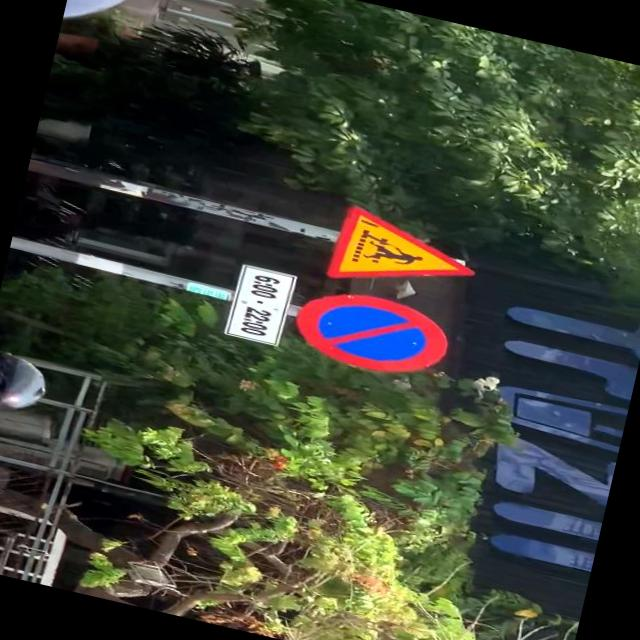P-131a: (288, 279, 457, 386)
W-224: (322, 202, 484, 308)
